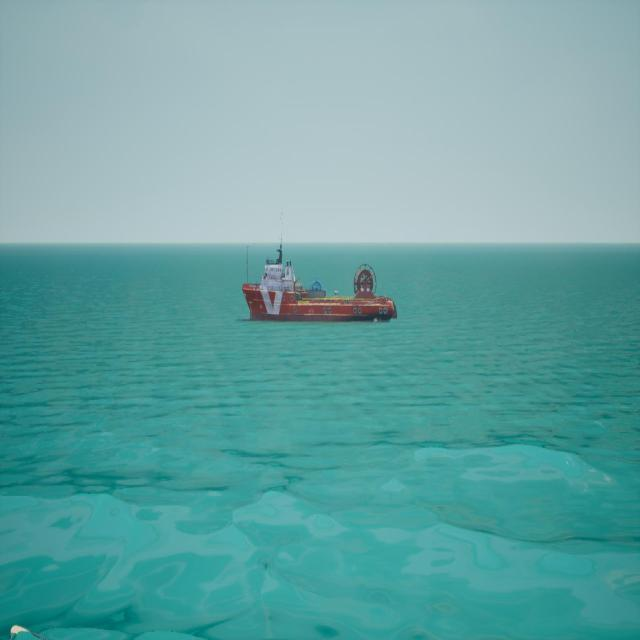tug boat: (240, 239, 397, 327)
